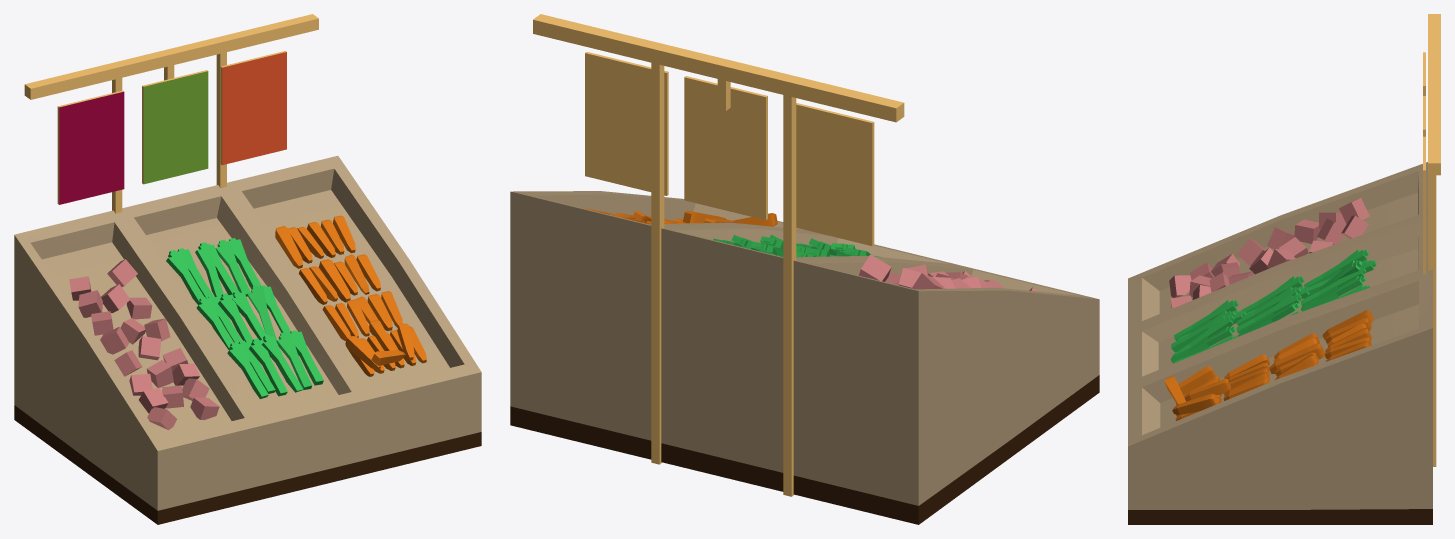
The model's file is 11.19_Shelf.fbx.
3 renders of one model, left to right at view 1: azimuth 30°, elevation 25°; view 2: azimuth 150°, elevation 25°; view 3: azimuth 270°, elevation 25°, orthographic. The views are drawn at different scales.
Parts seen in each view (by area): view 1: pCube11; view 2: pCube11; view 3: pCube11.
Boxes of the visible parts, x1=… form: pCube11: x1=14, y1=14, x2=481, y2=524; pCube11: x1=510, y1=14, x2=1099, y2=524; pCube11: x1=1128, y1=14, x2=1440, y2=524.
Size of the model in its own units: 1.58 by 1.54 by 1.24.
4 materials, 1 textured.
